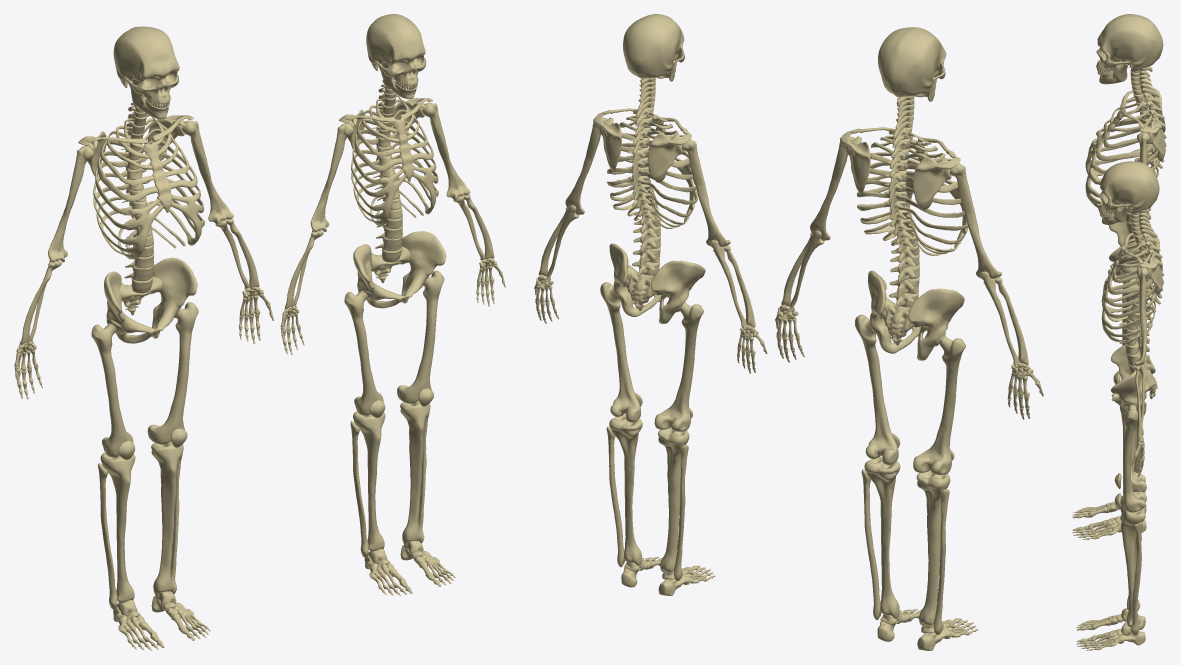
Rendered from human-1.8m.glb.
3 views of the same model, side by side, from view 1: azimuth 30°, elevation 25°; view 2: azimuth 150°, elevation 25°; view 3: azimuth 270°, elevation 25° (orthographic). The views are drawn at different scales.
Parts seen in each view (by area): view 1: Object_2.001, Object_2; view 2: Object_2.001, Object_2; view 3: Object_2, Object_2.001.
Part boxes in pixels (bbox=[...]): Object_2.001: bbox=[14, 26, 273, 650]; Object_2: bbox=[280, 14, 505, 596]; Object_2.001: bbox=[775, 27, 1043, 650]; Object_2: bbox=[534, 14, 767, 595]; Object_2: bbox=[1076, 161, 1164, 650]; Object_2.001: bbox=[1072, 14, 1166, 539].
Size of the model in its own units: 9.23 by 10.78 by 1.79.
